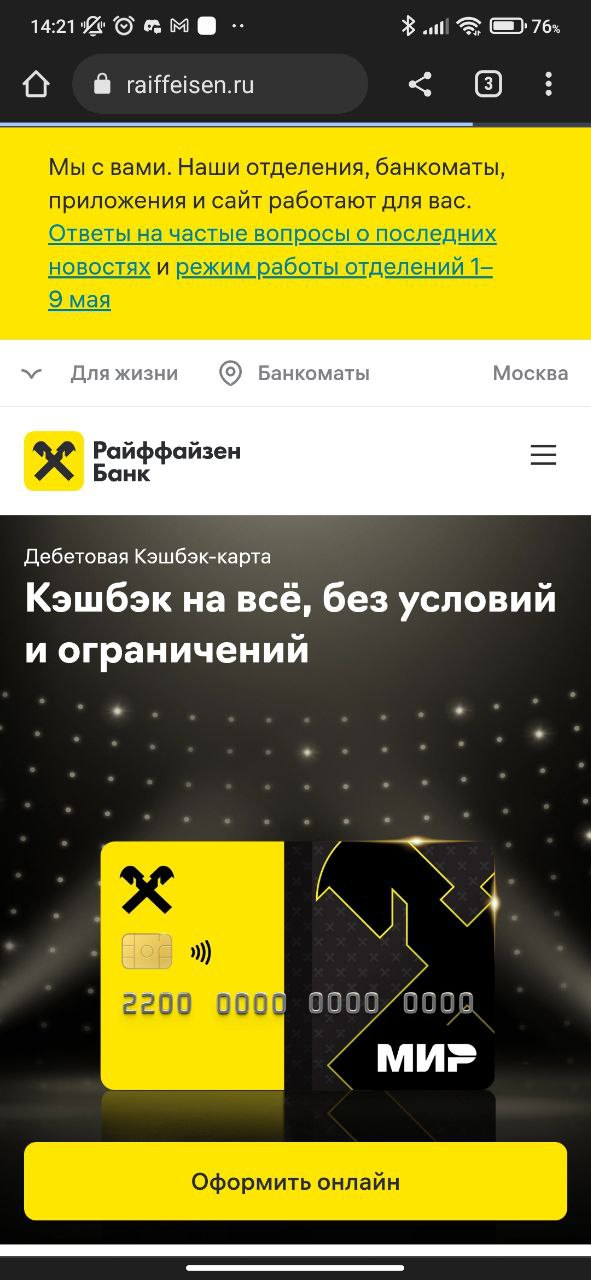burger_menu: (527, 437, 562, 472)
